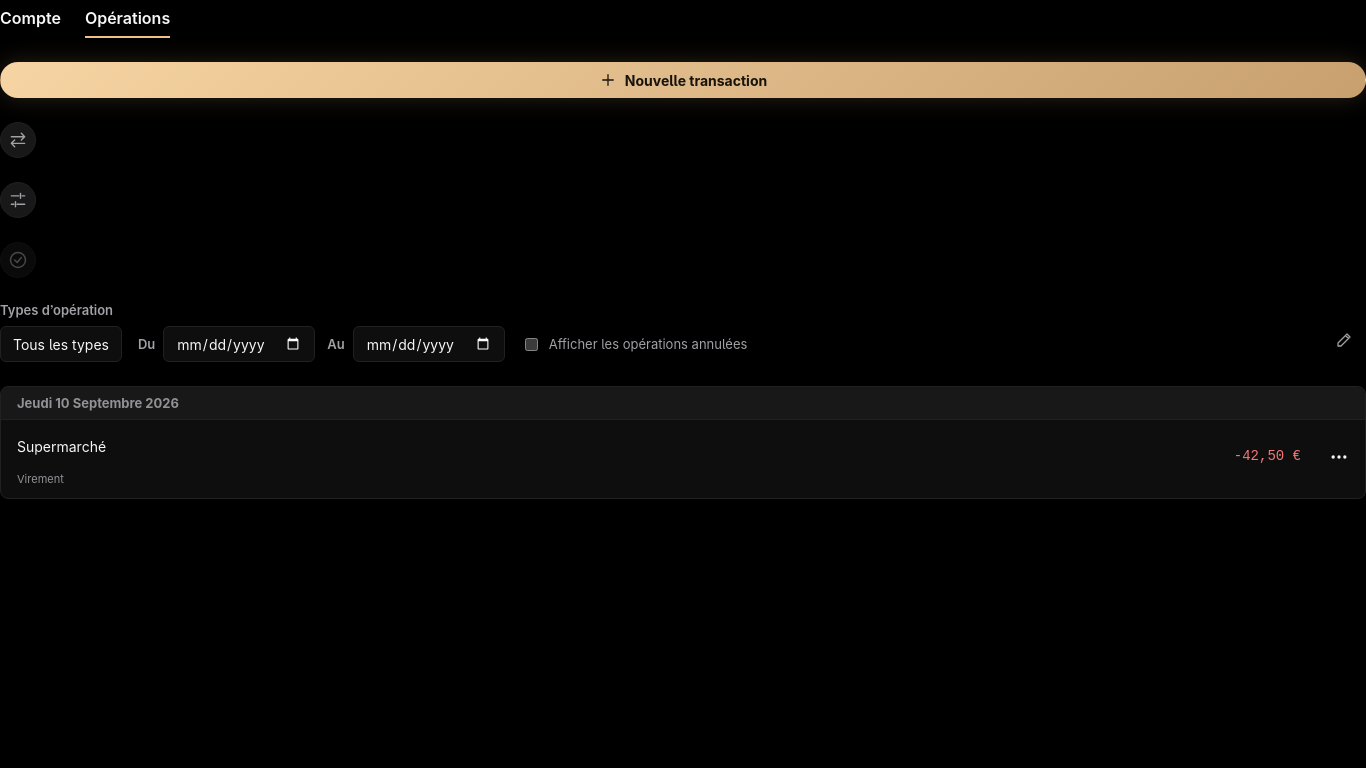
Test: AccountDetailPage › voids the complete transfer instead of a standalone movement
Expected: the button "Supermarché" is shown, [17,424,106,468]
Click the button named "Actions de la transaction « Supermarché »" at [1339, 457], box [1321,439,1357,475]
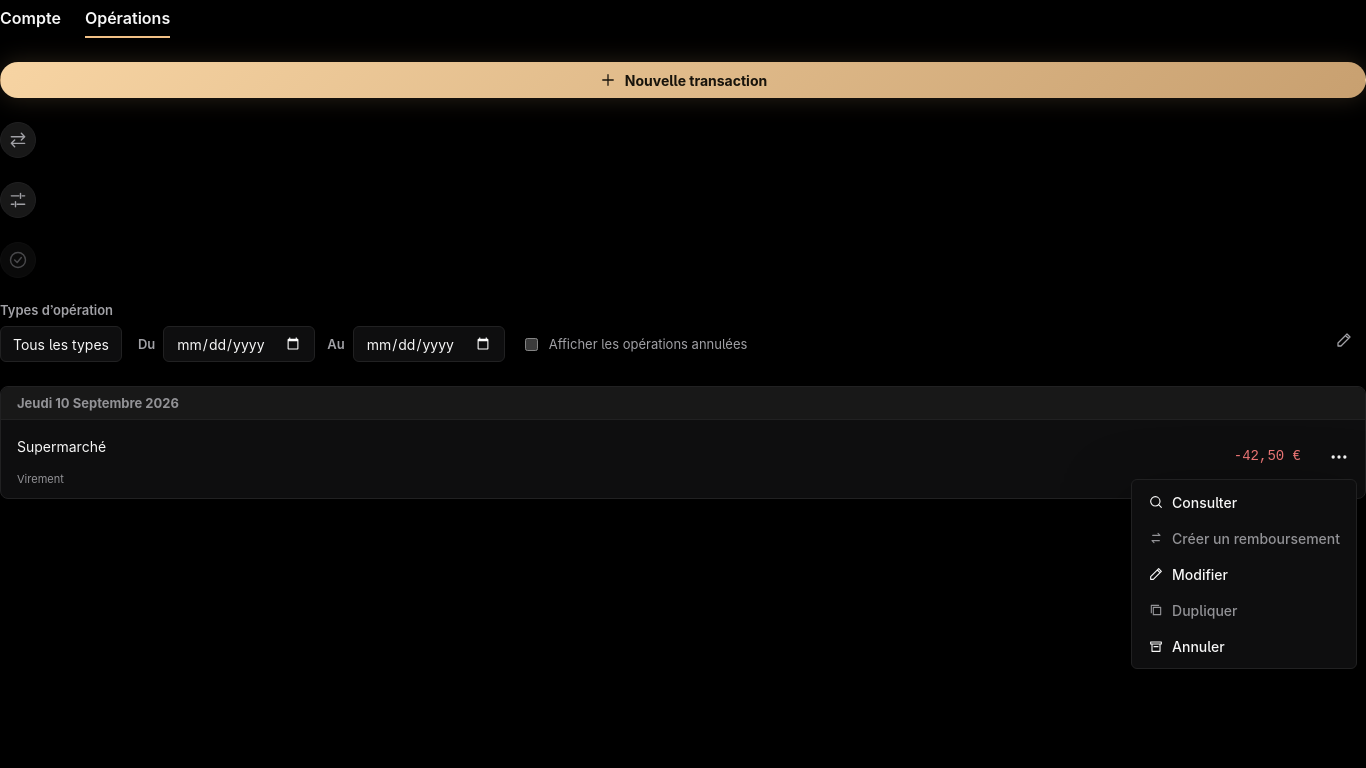
Click the button with aria-label "Annuler la transaction « Supermarché »" at [1244, 646], box [1136,628,1352,664]
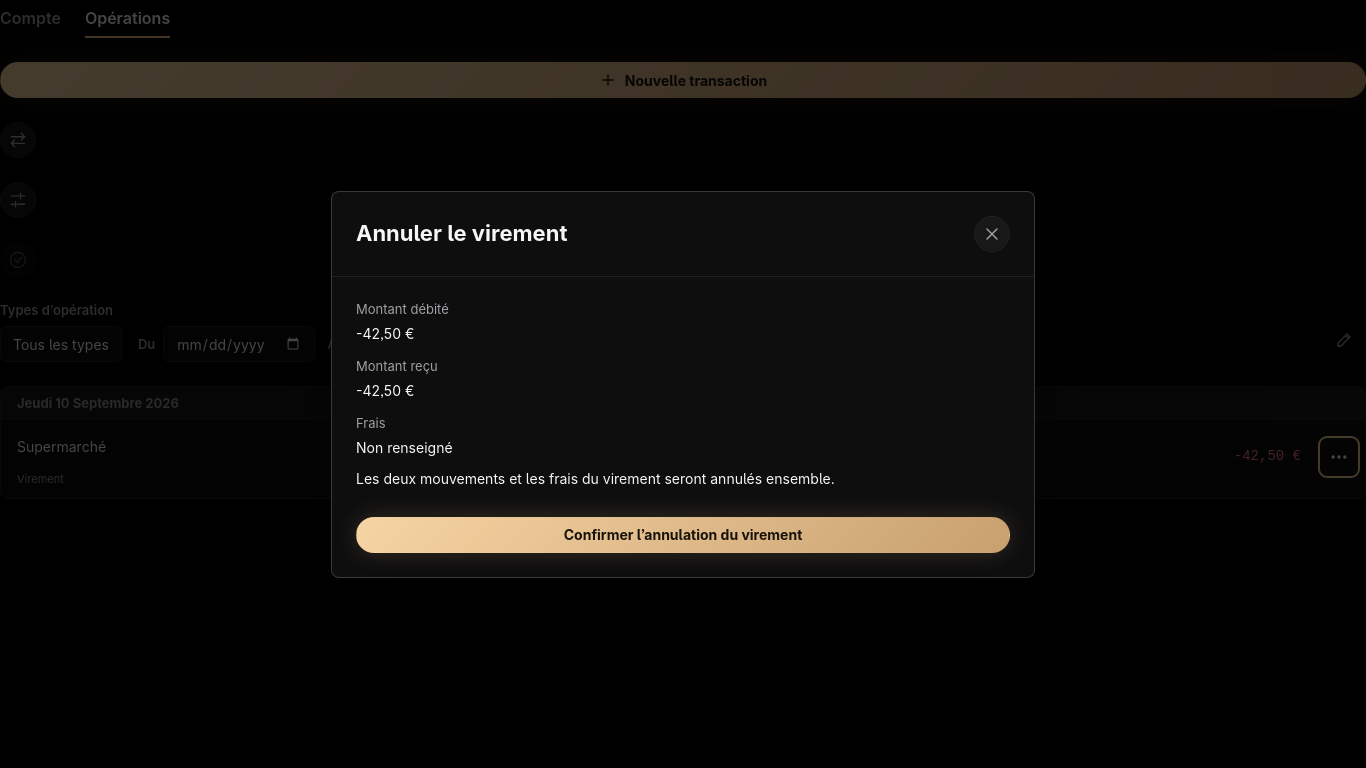
Result: the element named "Confirmer l’annulation du virement" is enabled at [356,456,1010,552]
Click the button "Confirmer l’annulation du virement" at [683, 534], box [356,516,1010,552]
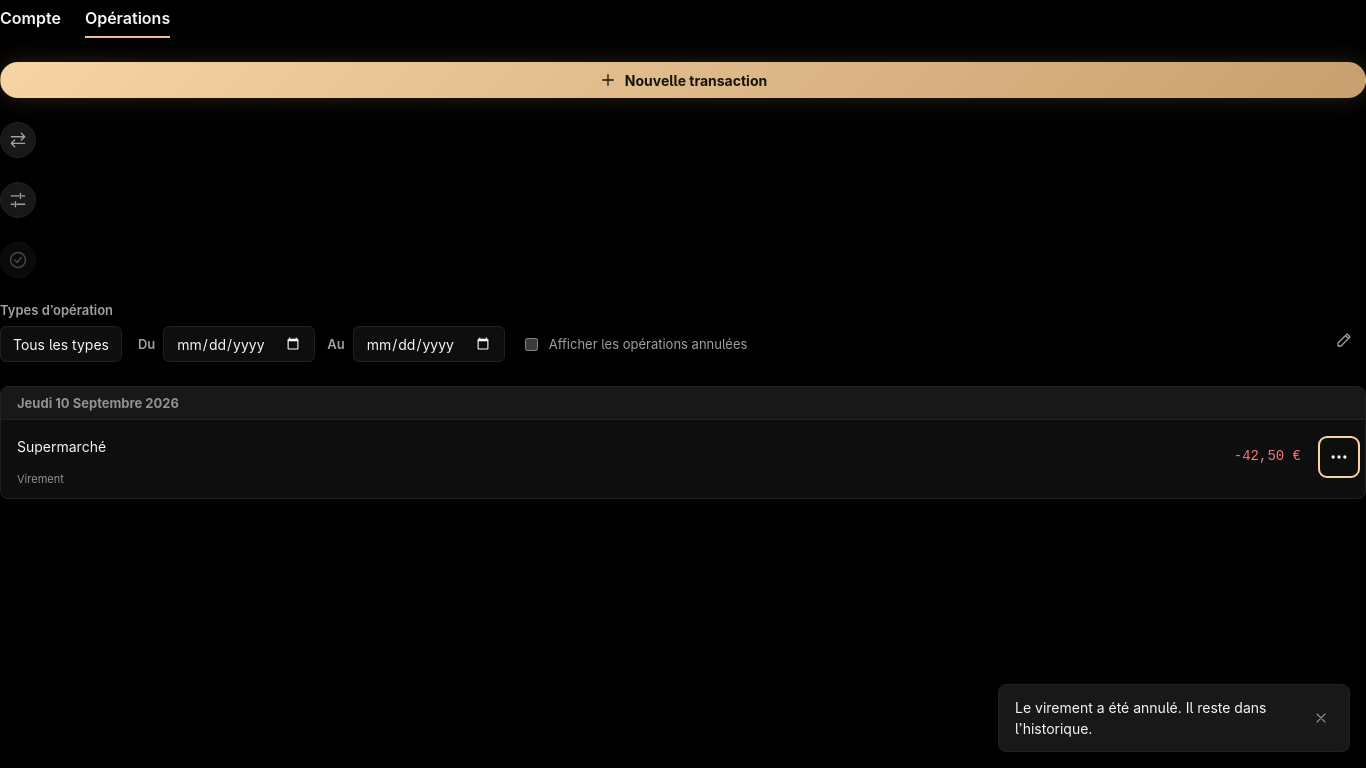
Result: the text "Le virement a été annulé. Il reste dans l’historique." is shown at [1015,697,1293,739]
